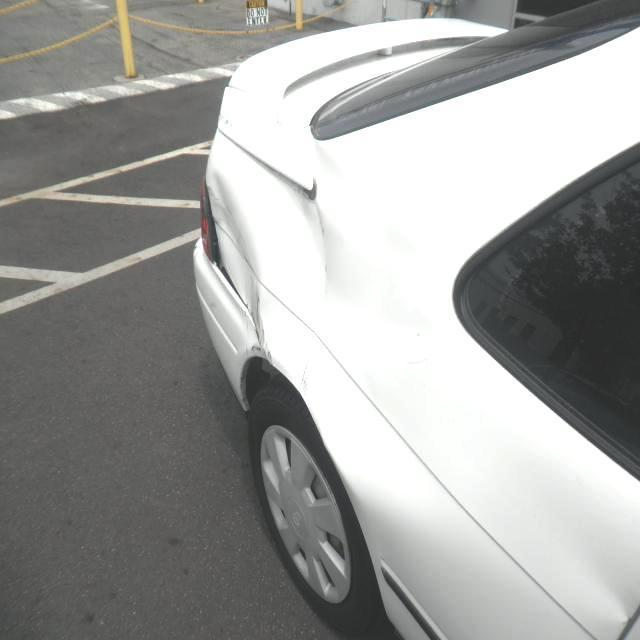minor: (202, 98, 402, 444)
